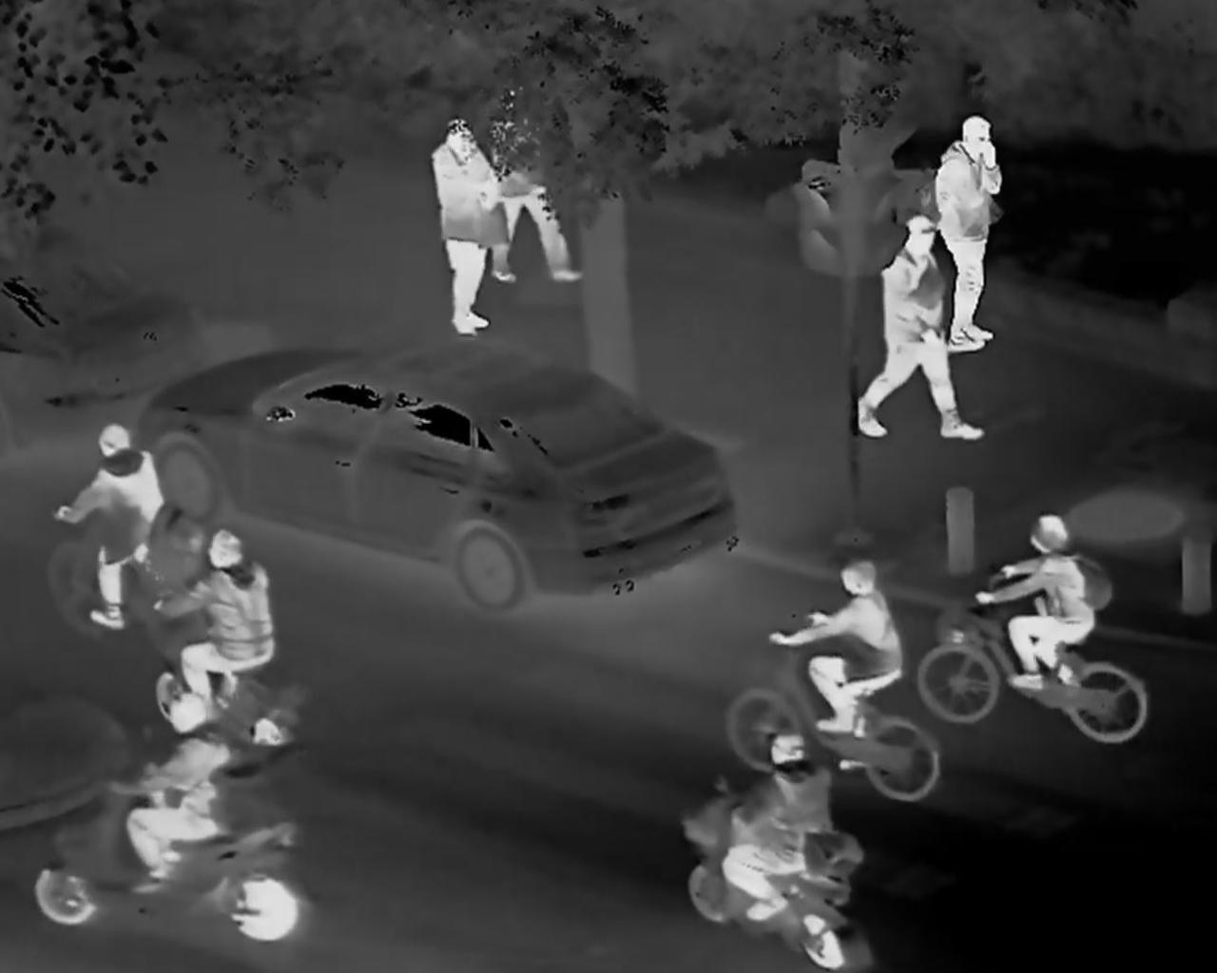person: (865, 203, 972, 445), (773, 560, 908, 744), (160, 531, 279, 735), (978, 512, 1107, 695), (722, 737, 836, 921), (126, 686, 234, 880), (69, 417, 168, 628), (934, 112, 1002, 352), (493, 78, 574, 279), (439, 116, 500, 334)
